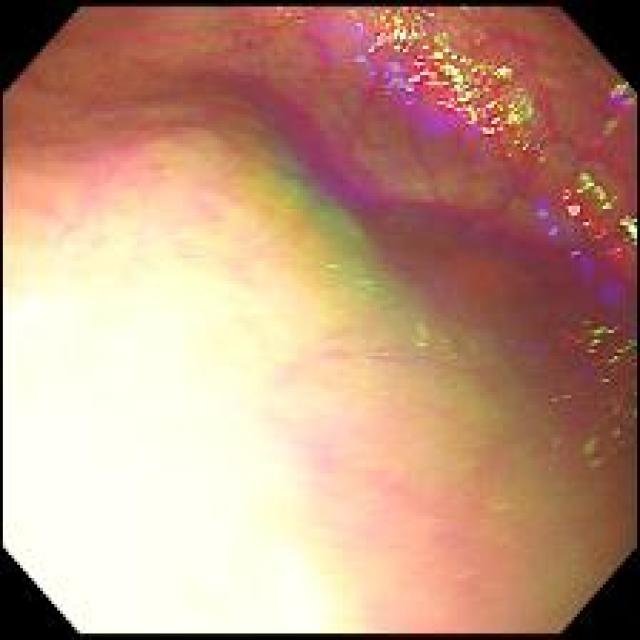color misalignment: (205, 5, 638, 493)
saturation: (3, 263, 369, 636)
specularity: (434, 45, 525, 136), (394, 16, 429, 54), (569, 206, 582, 215), (498, 67, 511, 75)
